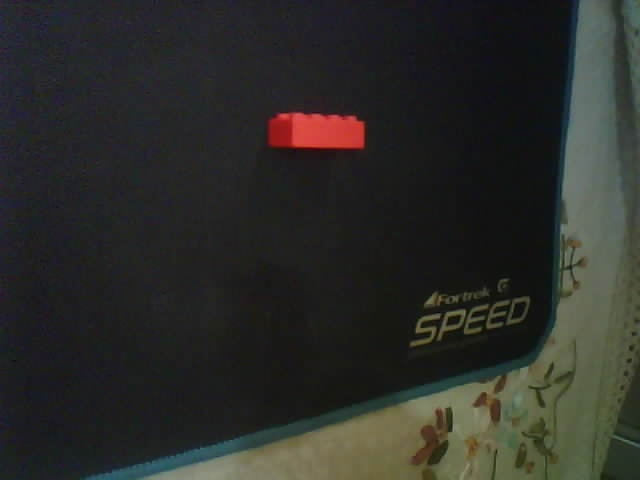lego: (267, 111, 367, 150)
